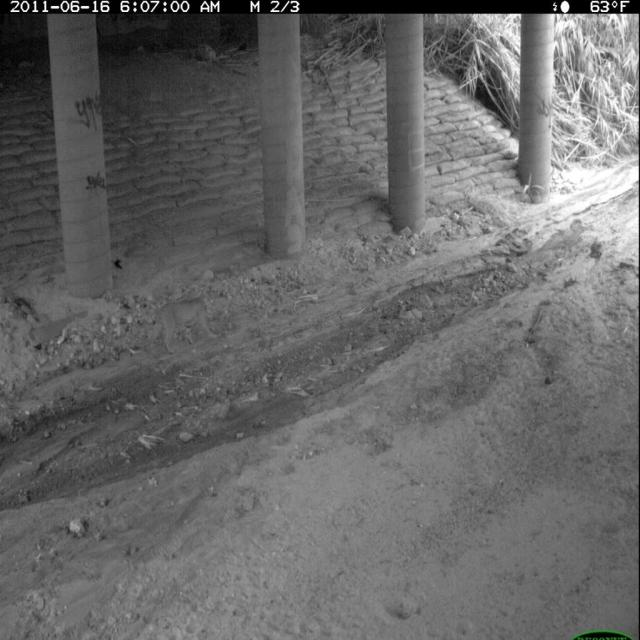bobcat: (146, 286, 221, 359)
